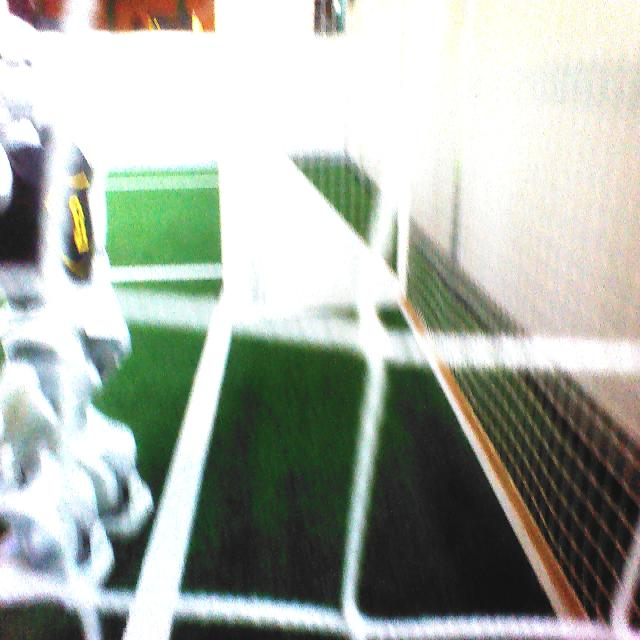goalpost: (214, 3, 258, 317)
